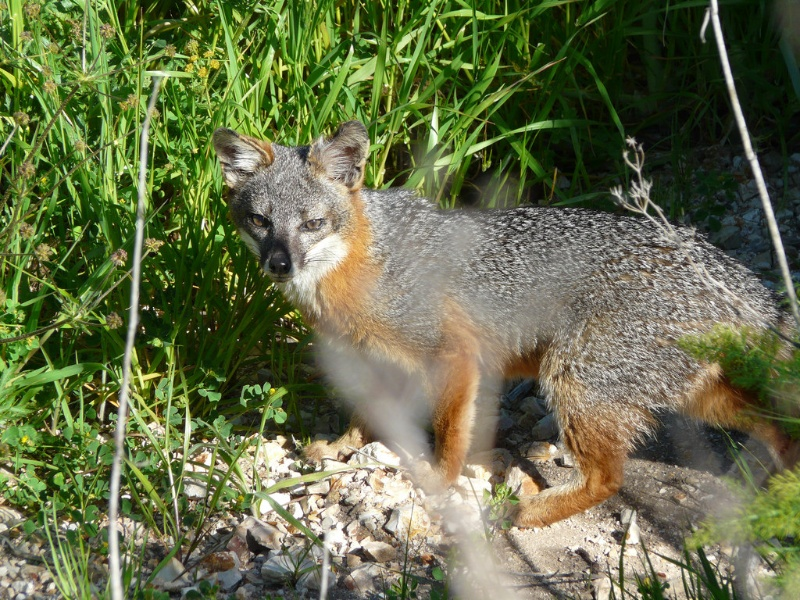fox: (207, 124, 800, 552)
